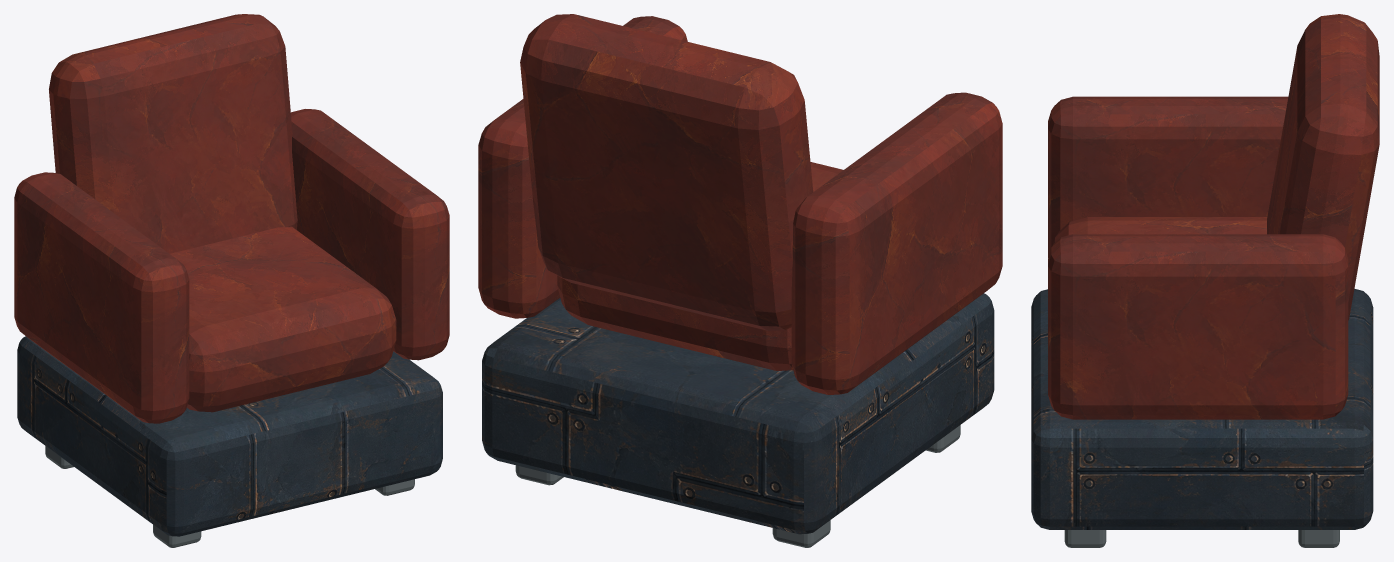
The model's file is APT_Chair_Lounge_Rust.glb.
3 views of the same model, side by side, from view 1: azimuth 30°, elevation 25°; view 2: azimuth 150°, elevation 25°; view 3: azimuth 270°, elevation 25° (orthographic). The views are drawn at different scales.
Visible parts, largest first — view 1: APT_Chair_Lounge_Rust_Base, APT_Chair_Lounge_Rust_Back, APT_Chair_Lounge_Rust_Arm_-0.39, APT_Chair_Lounge_Rust_Seat, APT_Chair_Lounge_Rust_Arm_0.39, APT_Chair_Lounge_Rust_Foot_-0.32_-0.28; view 2: APT_Chair_Lounge_Rust_Base, APT_Chair_Lounge_Rust_Back, APT_Chair_Lounge_Rust_Arm_-0.39, APT_Chair_Lounge_Rust_Arm_0.39, APT_Chair_Lounge_Rust_Seat, APT_Chair_Lounge_Rust_Foot_-0.32_0.28; view 3: APT_Chair_Lounge_Rust_Arm_0.39, APT_Chair_Lounge_Rust_Base, APT_Chair_Lounge_Rust_Arm_-0.39, APT_Chair_Lounge_Rust_Back, APT_Chair_Lounge_Rust_Seat, APT_Chair_Lounge_Rust_Foot_0.32_-0.28, APT_Chair_Lounge_Rust_Foot_0.32_0.28.
Boxes of the visible parts, bbox=[...] form: APT_Chair_Lounge_Rust_Base: bbox=[17, 336, 442, 536]; APT_Chair_Lounge_Rust_Back: bbox=[49, 14, 297, 253]; APT_Chair_Lounge_Rust_Arm_-0.39: bbox=[14, 172, 189, 423]; APT_Chair_Lounge_Rust_Seat: bbox=[170, 226, 396, 412]; APT_Chair_Lounge_Rust_Arm_0.39: bbox=[291, 109, 449, 360]; APT_Chair_Lounge_Rust_Foot_-0.32_-0.28: bbox=[153, 525, 201, 547]; APT_Chair_Lounge_Rust_Base: bbox=[482, 293, 994, 534]; APT_Chair_Lounge_Rust_Back: bbox=[520, 14, 813, 330]; APT_Chair_Lounge_Rust_Arm_-0.39: bbox=[791, 92, 1002, 394]; APT_Chair_Lounge_Rust_Arm_0.39: bbox=[478, 16, 687, 318]; APT_Chair_Lounge_Rust_Seat: bbox=[557, 162, 843, 370]; APT_Chair_Lounge_Rust_Foot_-0.32_0.28: bbox=[772, 520, 830, 547]; APT_Chair_Lounge_Rust_Arm_0.39: bbox=[1048, 234, 1348, 419]; APT_Chair_Lounge_Rust_Base: bbox=[1031, 288, 1373, 529]; APT_Chair_Lounge_Rust_Arm_-0.39: bbox=[1048, 96, 1288, 257]; APT_Chair_Lounge_Rust_Back: bbox=[1267, 14, 1379, 320]; APT_Chair_Lounge_Rust_Seat: bbox=[1052, 217, 1267, 245]; APT_Chair_Lounge_Rust_Foot_0.32_-0.28: bbox=[1064, 530, 1106, 547]; APT_Chair_Lounge_Rust_Foot_0.32_0.28: bbox=[1298, 530, 1339, 547].
Size of the model in its own units: 0.94 by 1.12 by 0.8355.
Materials: 3 (2 with a texture image).
